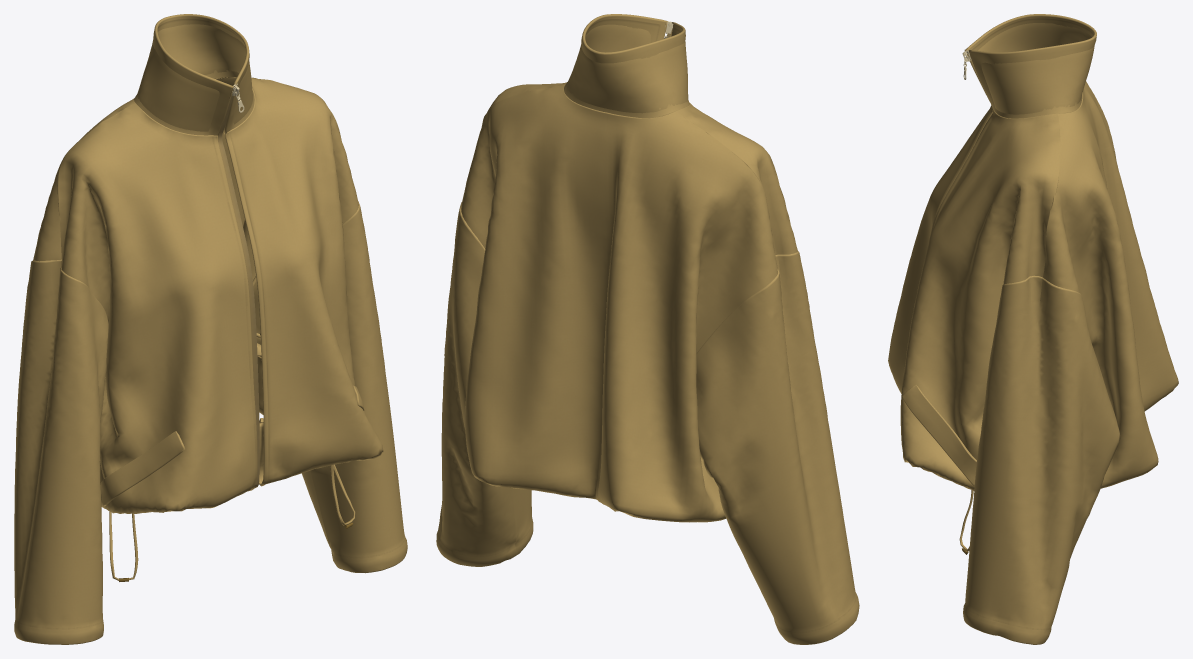
The model's file is jacket_coat.glb.
3 views of the same model, side by side, from view 1: azimuth 30°, elevation 25°; view 2: azimuth 150°, elevation 25°; view 3: azimuth 270°, elevation 25° (orthographic). The views are drawn at different scales.
Visible parts, largest first — view 1: Object_6, Object_7, Object_5, Object_4, Object_8, Object_9, Object_10, Object_3; view 2: Object_10, Object_5, Object_4, Object_8, Object_6; view 3: Object_4, Object_7, Object_10, Object_8, Object_6, Object_9.
Part boxes in pixels (x1=…): Object_6: x1=57, y1=103, x2=257, y2=513; Object_7: x1=225, y1=78, x2=383, y2=486; Object_5: x1=14, y1=259, x2=108, y2=644; Object_4: x1=253, y1=201, x2=407, y2=573; Object_8: x1=134, y1=14, x2=263, y2=423; Object_9: x1=100, y1=343, x2=364, y2=581; Object_10: x1=33, y1=77, x2=264, y2=414; Object_3: x1=218, y1=86, x2=259, y2=488; Object_10: x1=461, y1=84, x2=777, y2=522; Object_5: x1=696, y1=251, x2=859, y2=644; Object_4: x1=436, y1=202, x2=533, y2=566; Object_8: x1=564, y1=14, x2=689, y2=118; Object_6: x1=677, y1=102, x2=797, y2=255; Object_4: x1=963, y1=275, x2=1120, y2=644; Object_7: x1=900, y1=110, x2=1060, y2=490; Object_10: x1=1043, y1=81, x2=1178, y2=488; Object_8: x1=965, y1=14, x2=1096, y2=118; Object_6: x1=888, y1=105, x2=992, y2=393; Object_9: x1=902, y1=385, x2=976, y2=554.
Size of the model in its own units: 565 by 775 by 382.
3 materials, 1 textured.
